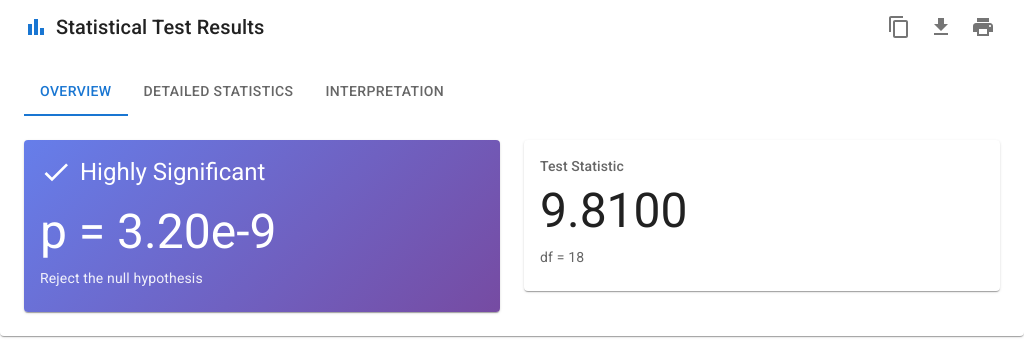
it: p = 3.2e-9 prints as "p = 3.20e-9"
Expected: the heading "p = 3.20e-9" is shown, [40,203,276,260]
Click the tab "Interpretation" at (385, 92), box [310,68,460,116]
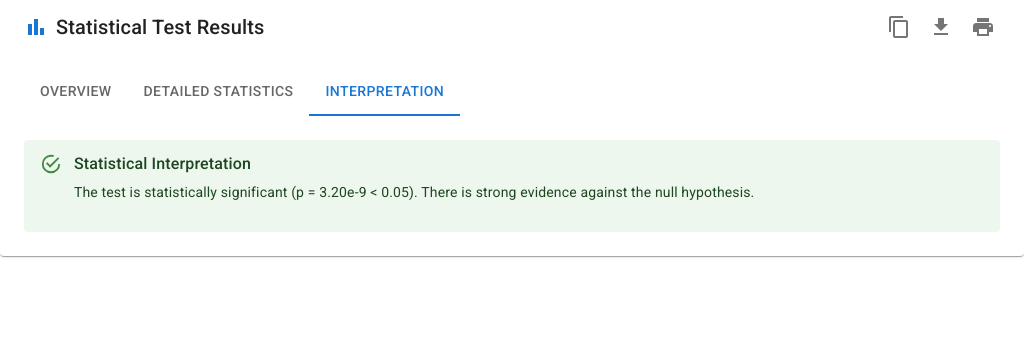
Result: the text "statistically significant (p = 3.20e-9 < 0.05)" is shown at [74,184,754,200]
